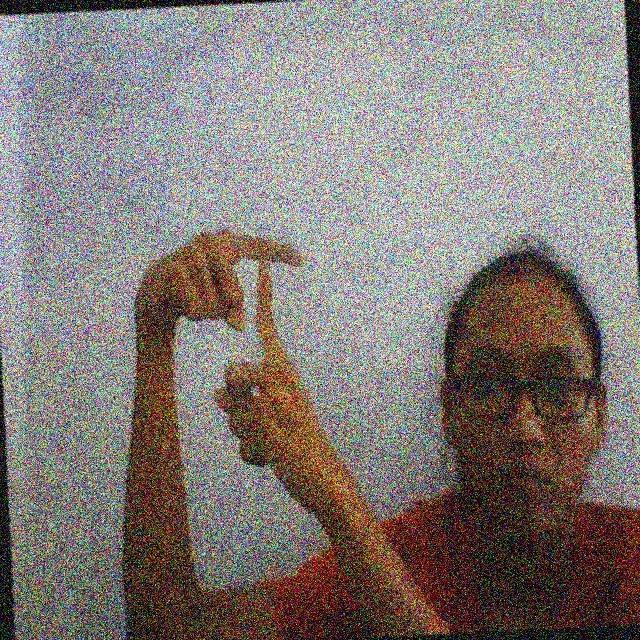T: (185, 221, 329, 466)
